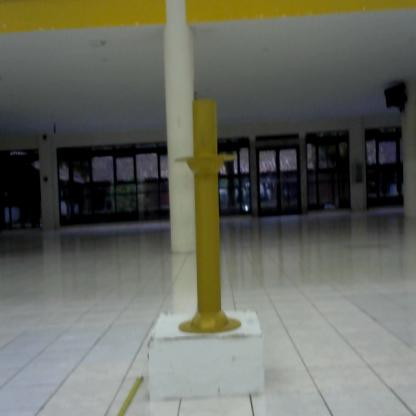pole: (171, 97, 244, 341)
